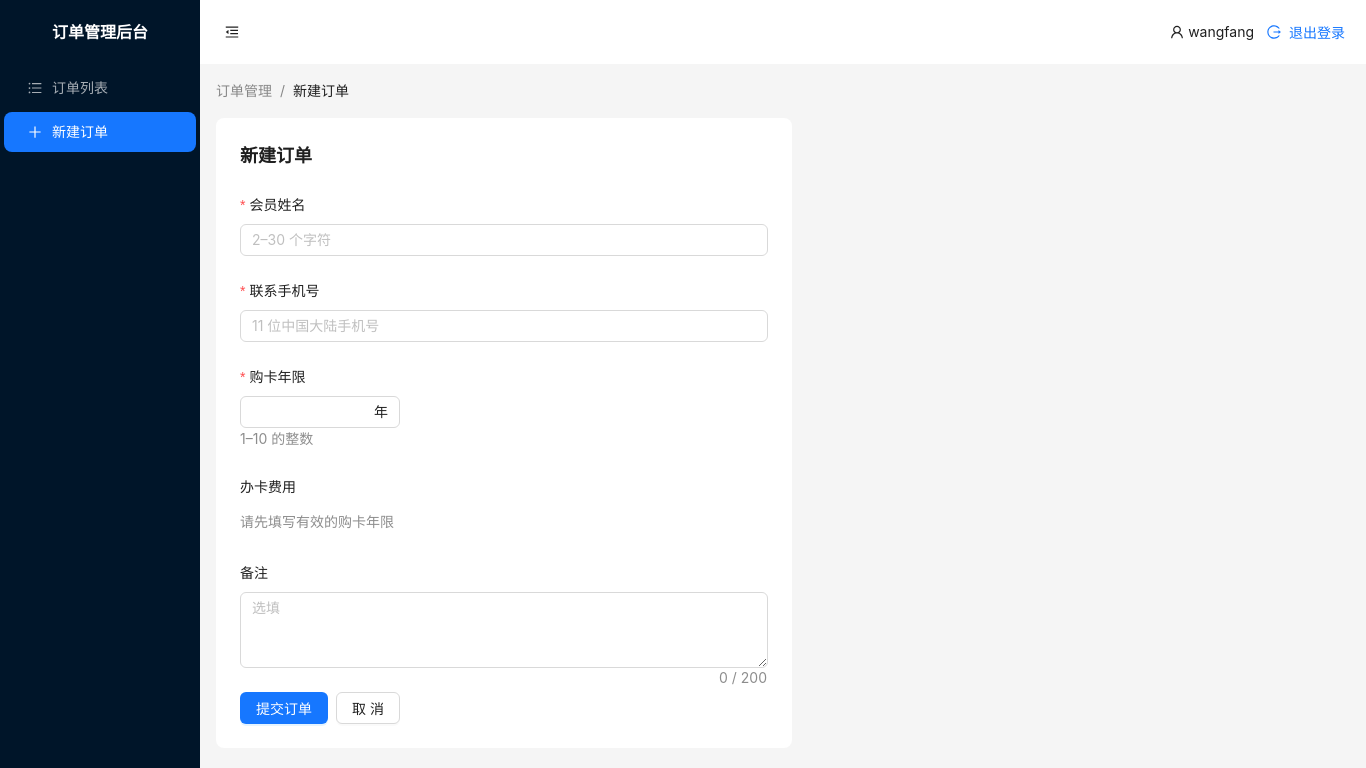
Test case: 表单字段 › 直接点提交：必填字段全部提示
Click the button "提交订单": [284, 708] box [240,692,328,724]
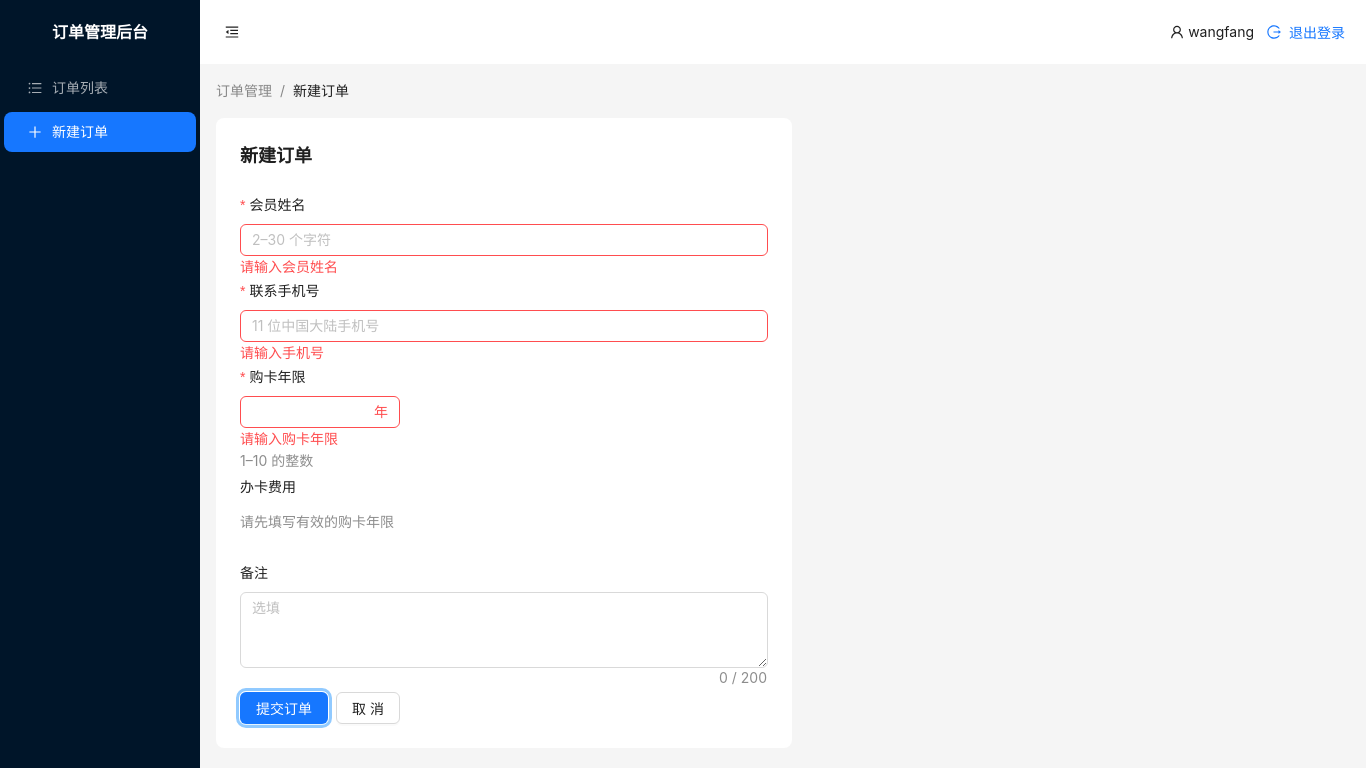
Expected: the text "请输入会员姓名" is shown, [240,258,338,275]
Expected: the text "请输入手机号" is shown, [240,344,324,361]
Expected: the text "请输入购卡年限" is shown, [240,430,338,447]
